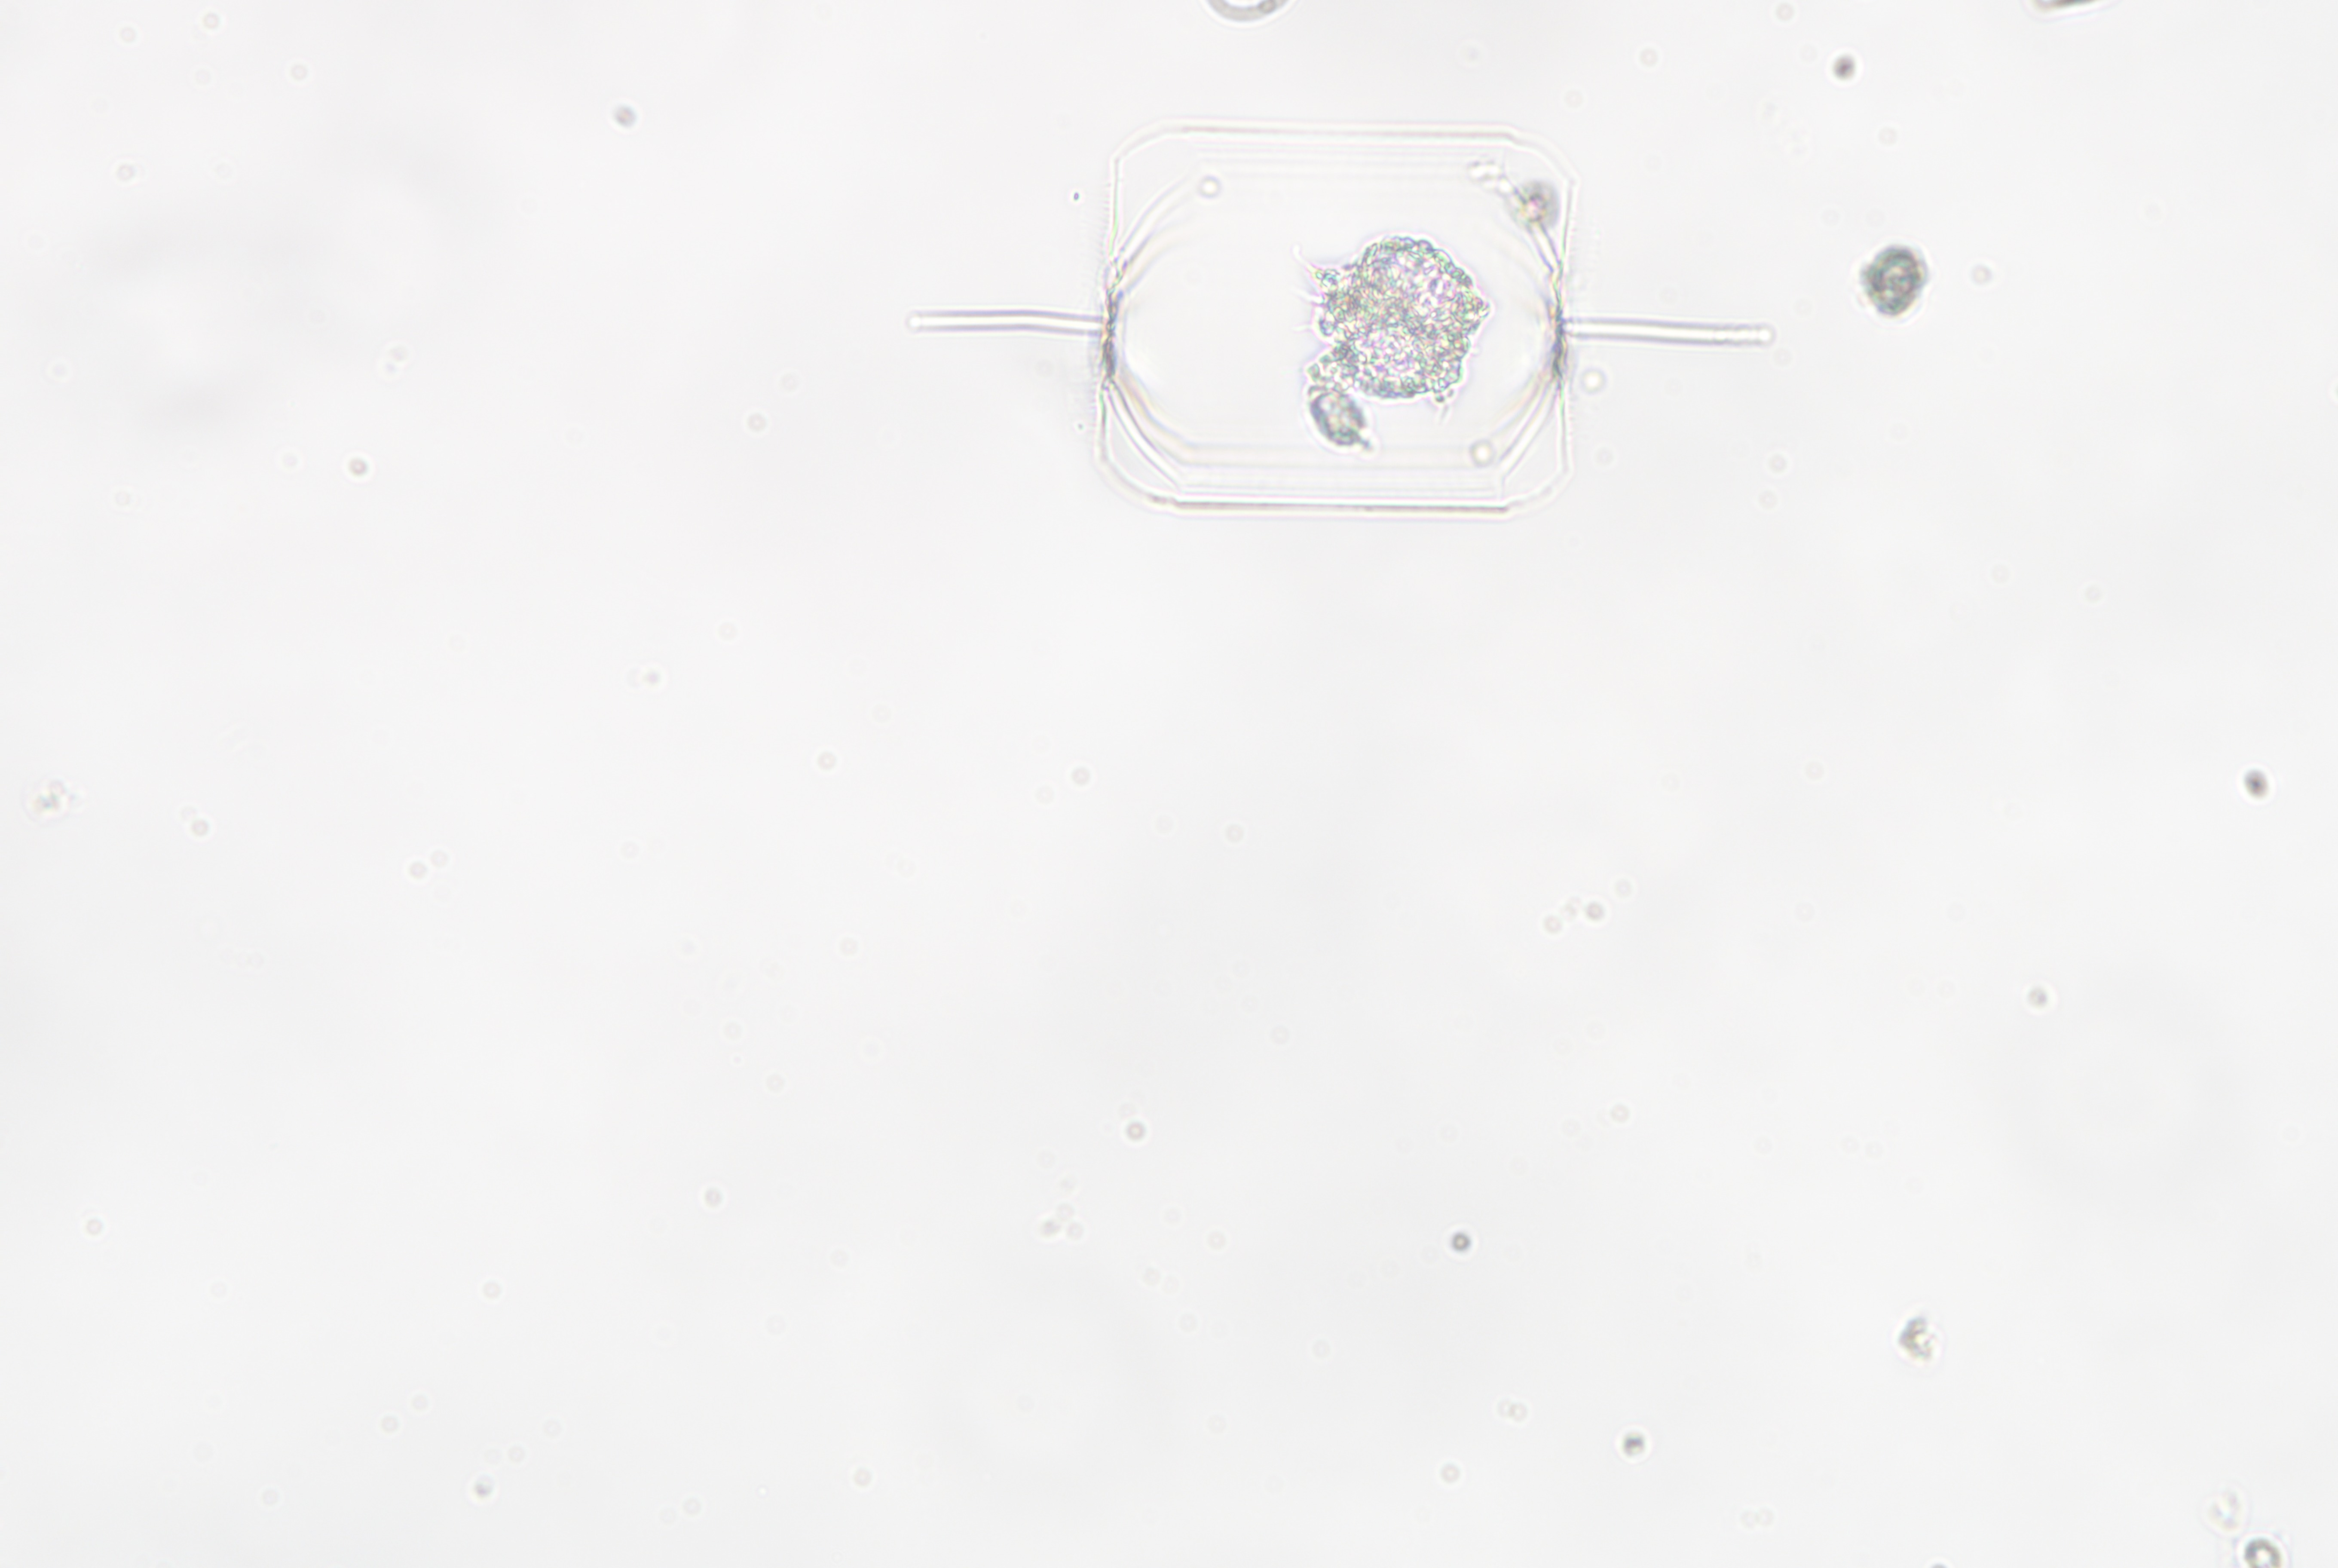ditylum: (903, 128, 1778, 513)
